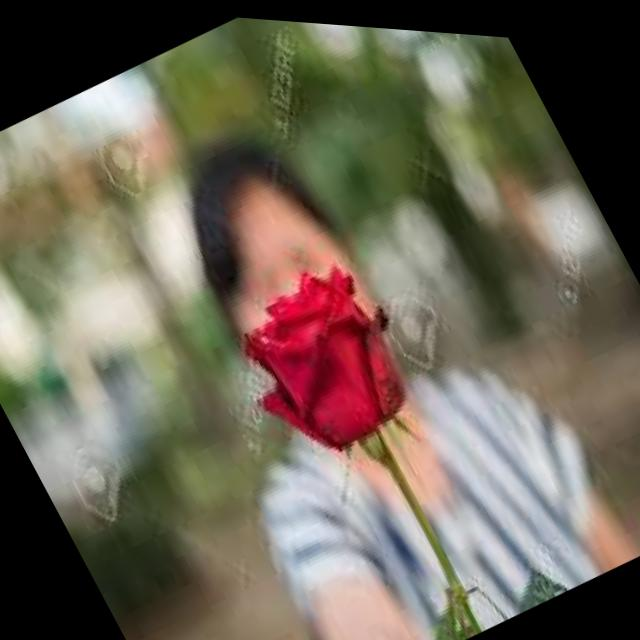Flower: (217, 238, 434, 478)
